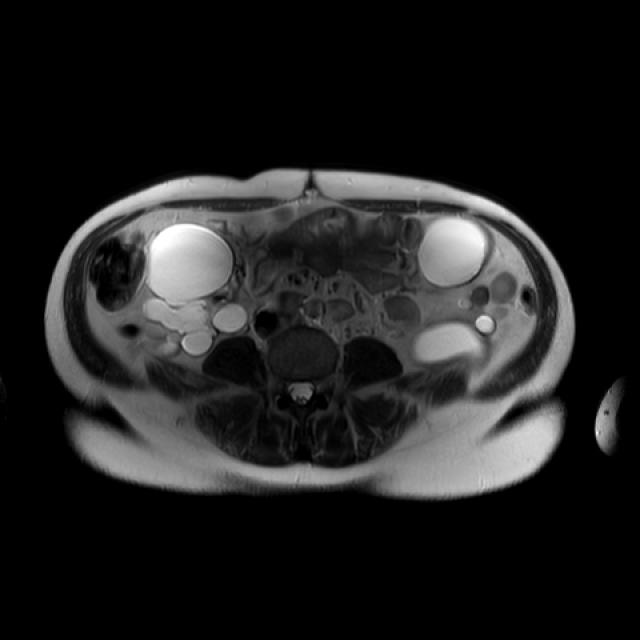sag: (143, 223, 251, 358)
sol: (416, 218, 494, 290), (411, 314, 497, 366), (455, 272, 517, 309)
